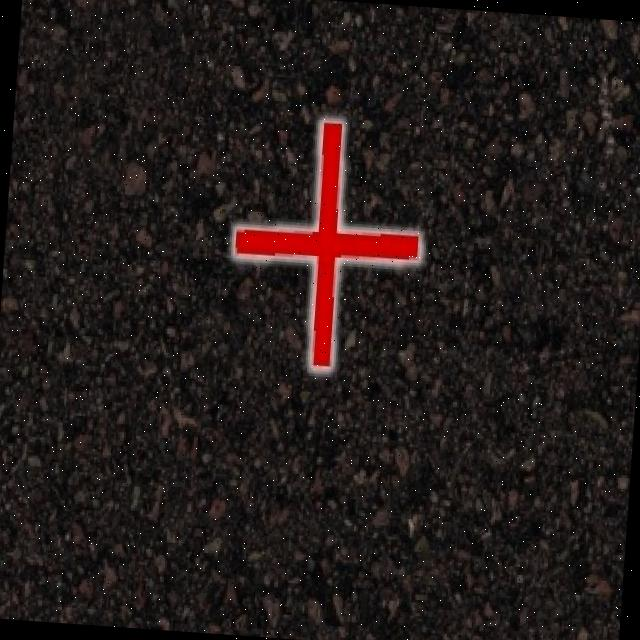x_marker: (226, 115, 427, 374)
